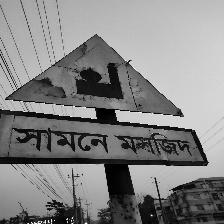Mosque in front: (1, 34, 204, 166)
